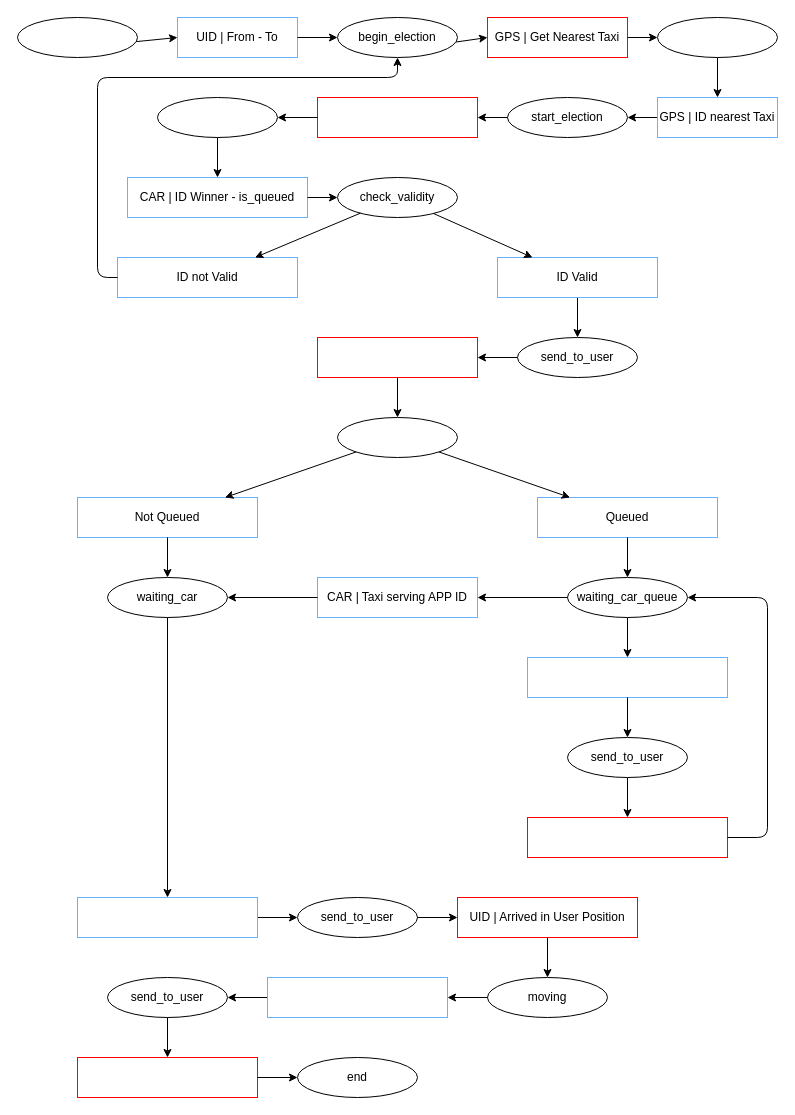
Image size: 795x1115. Some labels were removed from this diagram. Here are the shapes that lost their labels. From the top down, the centre of each, then its label:
the point at 77,37: idle
the point at 717,37: wait_gps
the point at 217,117: waiting_election
the point at 397,117: CAR | Begin Election User
the point at 397,357: UID | ID taxi
the point at 397,437: check_queue
the point at 627,677: UID | Change Dest - New Dest
the point at 627,837: UID | You can't change path
the point at 167,917: CAR | Arrived in User Position
the point at 357,997: CAR | Arrived in Target Position
the point at 167,1077: UID | Arrived in Target Position
